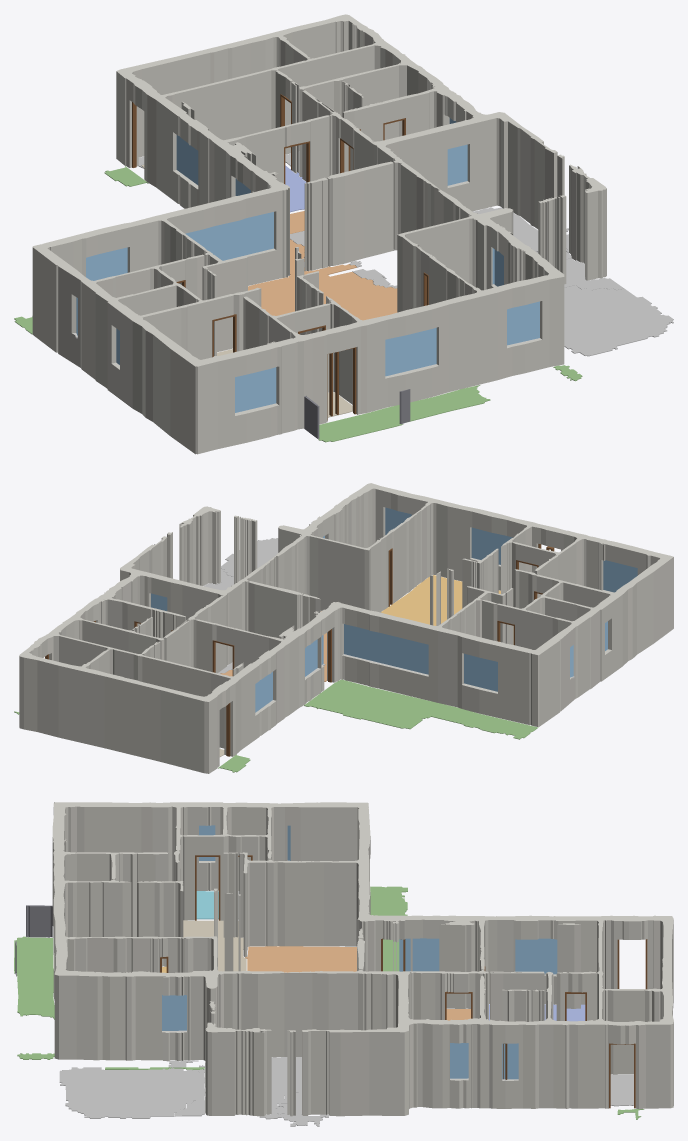
3 renders of one model, top to bottom at view 1: azimuth 30°, elevation 25°; view 2: azimuth 150°, elevation 25°; view 3: azimuth 270°, elevation 25°, orthographic. The views are drawn at different scales.
Visible parts, largest first — view 1: walls, floor_28_Garage, floor_10_Living_Room, floor_1_Outdoor, window_25, window_32, window_31, window_30, window_24, railings, floor_37_Undefined, window_18 (+3 smaller); view 2: walls, floor_4_Outdoor, window_25, floor_9_Kitchen, window_24, window_32, window_31, floor_28_Garage, window_18; view 3: walls, floor_28_Garage, floor_10_Living_Room, floor_1_Outdoor, floor_4_Outdoor, floor_37_Undefined, window_18, floor_18_Entry, railings, window_21, window_29, floor_27_Storage (+4 smaller).
Boxes of the visible parts, left/top/right/bottom form: walls: left=32, top=14, right=606, bottom=454; floor_28_Garage: left=564, top=285, right=673, bottom=356; floor_10_Living_Room: left=248, top=211, right=397, bottom=320; floor_1_Outdoor: left=318, top=385, right=490, bottom=442; window_25: left=185, top=212, right=273, bottom=260; window_32: left=385, top=327, right=436, bottom=376; window_31: left=235, top=367, right=276, bottom=412; window_30: left=507, top=301, right=539, bottom=345; window_24: left=86, top=247, right=127, bottom=280; railings: left=304, top=389, right=410, bottom=438; floor_37_Undefined: left=535, top=251, right=623, bottom=290; window_18: left=176, top=135, right=198, bottom=185; walls: left=19, top=483, right=673, bottom=773; floor_4_Outdoor: left=304, top=679, right=538, bottom=739; window_25: left=344, top=624, right=428, bottom=674; floor_9_Kitchen: left=381, top=575, right=500, bottom=625; window_24: left=464, top=653, right=497, bottom=691; window_32: left=471, top=527, right=512, bottom=564; window_31: left=603, top=560, right=637, bottom=592; floor_28_Garage: left=221, top=538, right=278, bottom=580; window_18: left=255, top=672, right=272, bottom=712; walls: left=52, top=802, right=673, bottom=1116; floor_28_Garage: left=59, top=1067, right=205, bottom=1118; floor_10_Living_Room: left=245, top=946, right=470, bottom=1020; floor_1_Outdoor: left=14, top=936, right=54, bottom=1019; floor_4_Outdoor: left=370, top=886, right=407, bottom=971; floor_37_Undefined: left=174, top=1057, right=301, bottom=1116; window_18: left=515, top=938, right=557, bottom=974; floor_18_Entry: left=183, top=920, right=246, bottom=971; railings: left=15, top=905, right=52, bottom=976; window_21: left=412, top=938, right=439, bottom=971; window_29: left=162, top=995, right=186, bottom=1030; floor_27_Storage: left=610, top=1074, right=633, bottom=1106.
Size of the model in its own units: 16.57 by 2.72 by 19.26.
